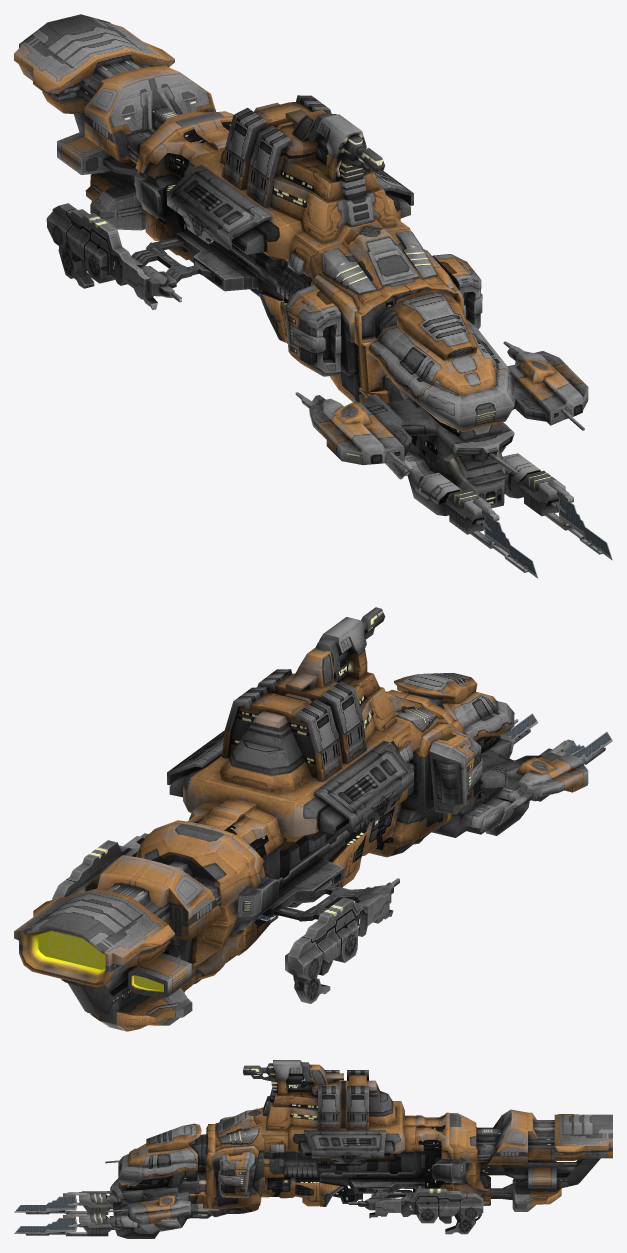
The model's file is 29990_Loki2312_lite.glb.
The picture shows the model from 3 angles, top to bottom: view 1: azimuth 30°, elevation 25°; view 2: azimuth 150°, elevation 25°; view 3: azimuth 270°, elevation 25°; orthographic projection. The views are drawn at different scales.
Visible parts, largest first — view 1: msc1_t3_s1v2, msc1_t3_s2v3, msc1_t3_s4v2, msc1_t3_s3v1; view 2: msc1_t3_s2v3, msc1_t3_s4v2, msc1_t3_s1v2, msc1_t3_s3v1; view 3: msc1_t3_s1v2, msc1_t3_s2v3, msc1_t3_s4v2, msc1_t3_s3v1.
Part boxes in pixels (<box>): msc1_t3_s1v2: <box>285,223,612,578</box>; msc1_t3_s2v3: <box>167,95,413,343</box>; msc1_t3_s4v2: <box>14,14,233,240</box>; msc1_t3_s3v1: <box>46,115,285,342</box>; msc1_t3_s2v3: <box>167,607,414,886</box>; msc1_t3_s4v2: <box>14,823,261,1031</box>; msc1_t3_s1v2: <box>369,673,612,857</box>; msc1_t3_s3v1: <box>52,806,399,1003</box>; msc1_t3_s1v2: <box>14,1108,264,1238</box>; msc1_t3_s2v3: <box>243,1060,415,1206</box>; msc1_t3_s4v2: <box>449,1109,612,1211</box>; msc1_t3_s3v1: <box>319,1112,483,1234</box>.
Bounding box in the file's own units: 1.14 × 1.21 × 3.91.
7 materials, 7 textured.
